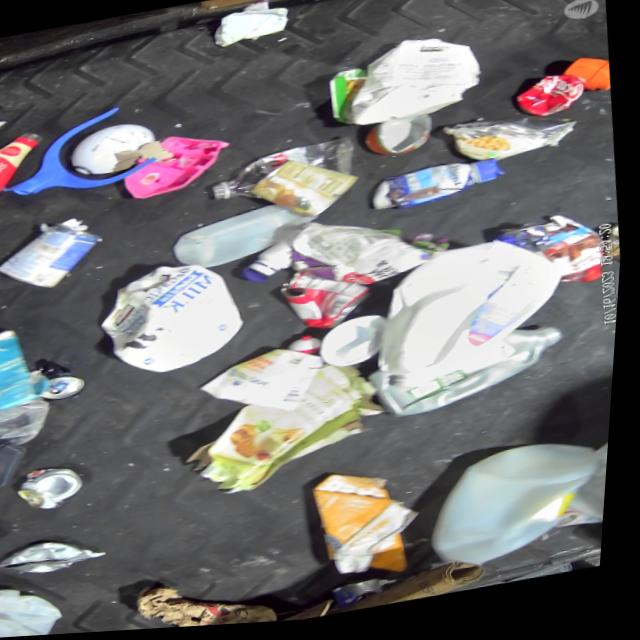can: (249, 147, 367, 235), (0, 212, 115, 297), (271, 260, 381, 343), (15, 452, 103, 519), (0, 532, 113, 582), (509, 73, 597, 132), (359, 109, 445, 168), (35, 342, 92, 406)
milk_jug: (378, 233, 581, 391), (430, 435, 616, 581), (102, 253, 260, 386), (334, 29, 496, 135), (168, 197, 328, 274), (551, 436, 616, 543), (0, 574, 86, 639)
non_white_jug: (354, 316, 575, 433)
plastic_bottle: (200, 133, 359, 204)
